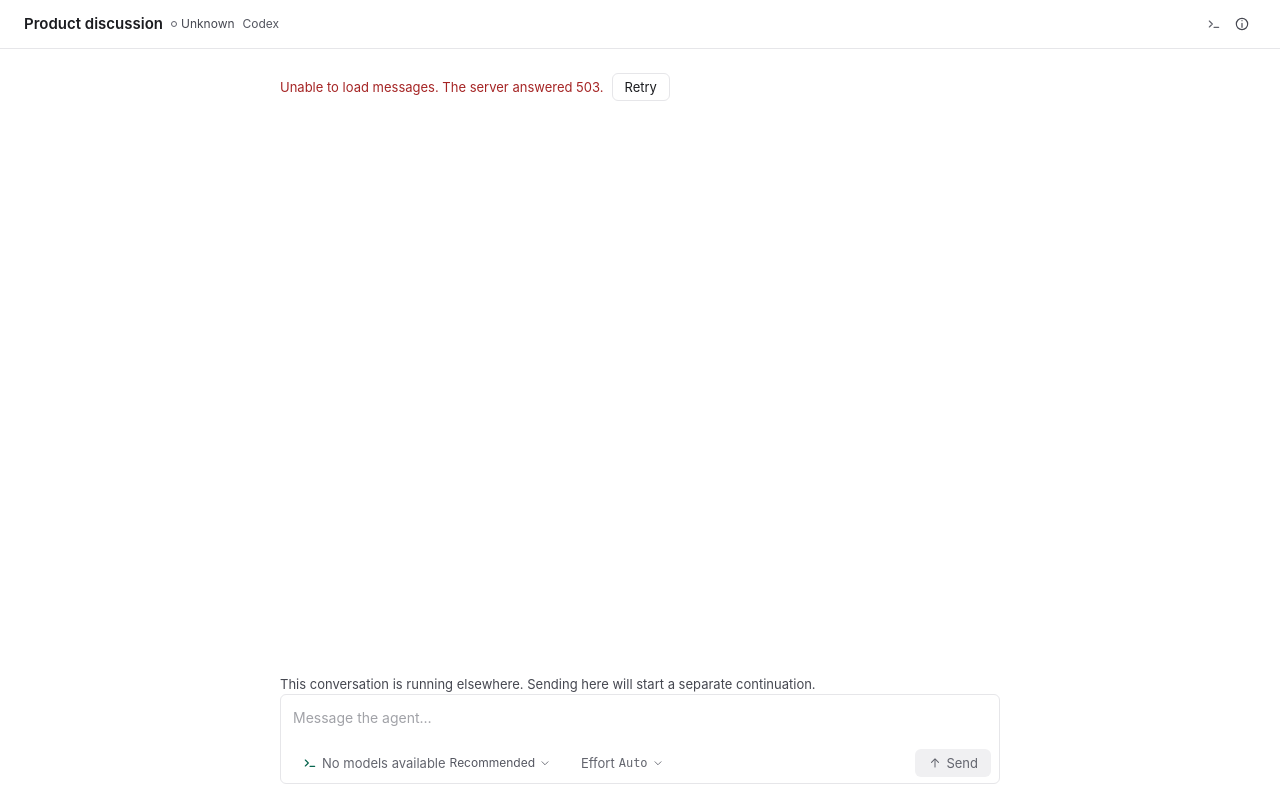
Test: shows a conversation fetch failure and retries successfully
The image size is (1280, 800).
Click the button "Retry": (641, 87) [612,73,670,101]
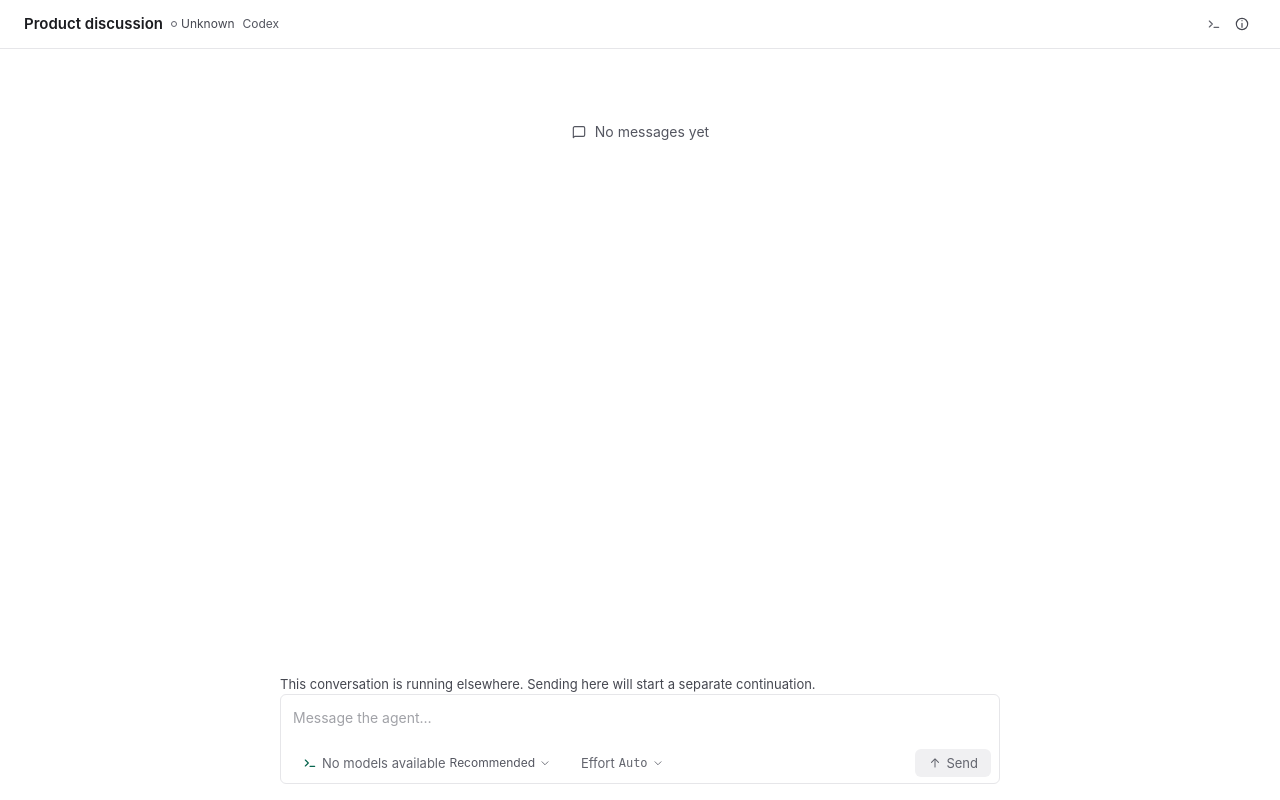
Result: the message "Unable to load messages. The server answered 503. Retry" is gone
